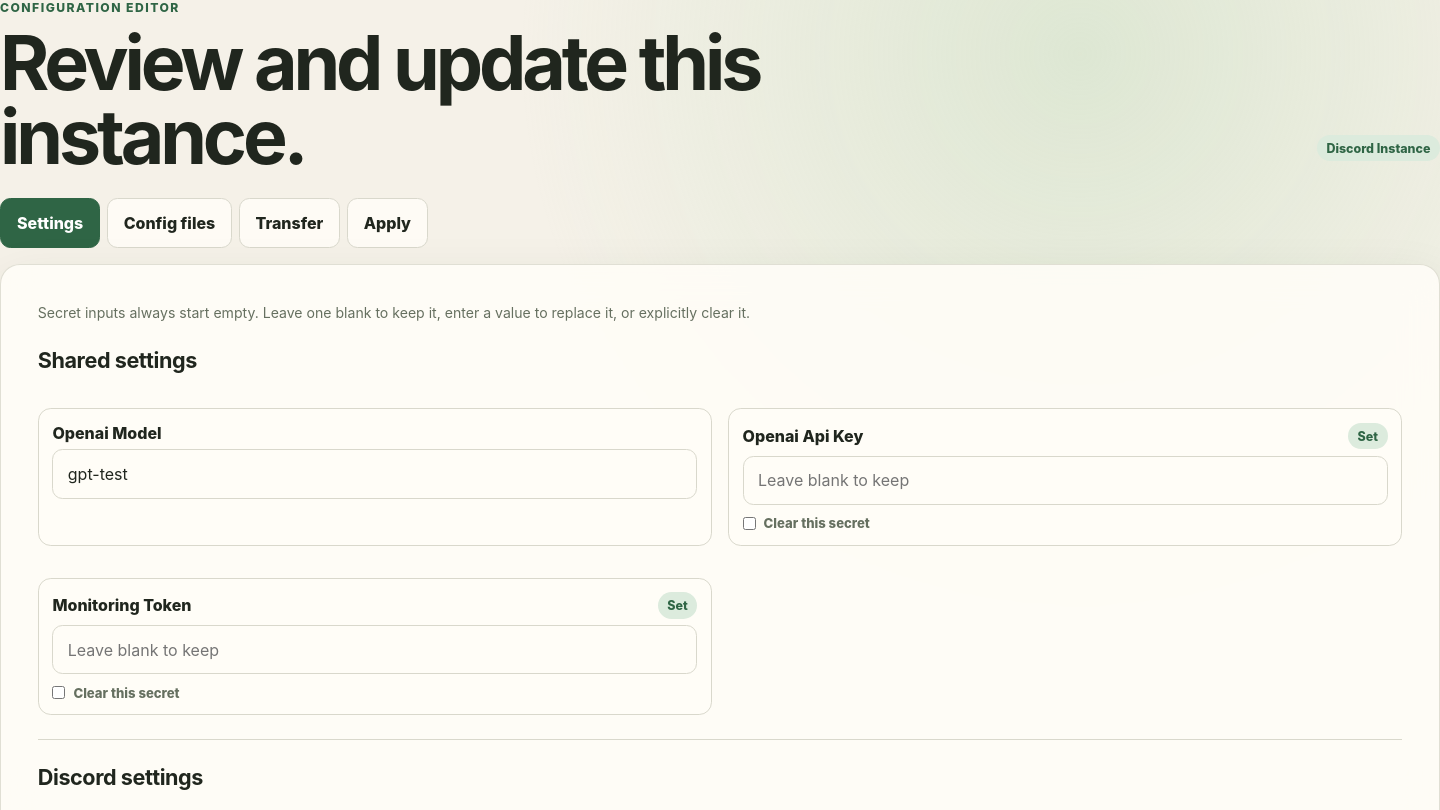
Scenario: existing configuration editor (jsdom) › maps validation issues to the matching environment field
The width and height of the screenshot is (1440, 810).
Type "missing-model" into the field labelled "Openai Model". click: x=375, y=474
box: [52,449,697,499]
(page scrolled)
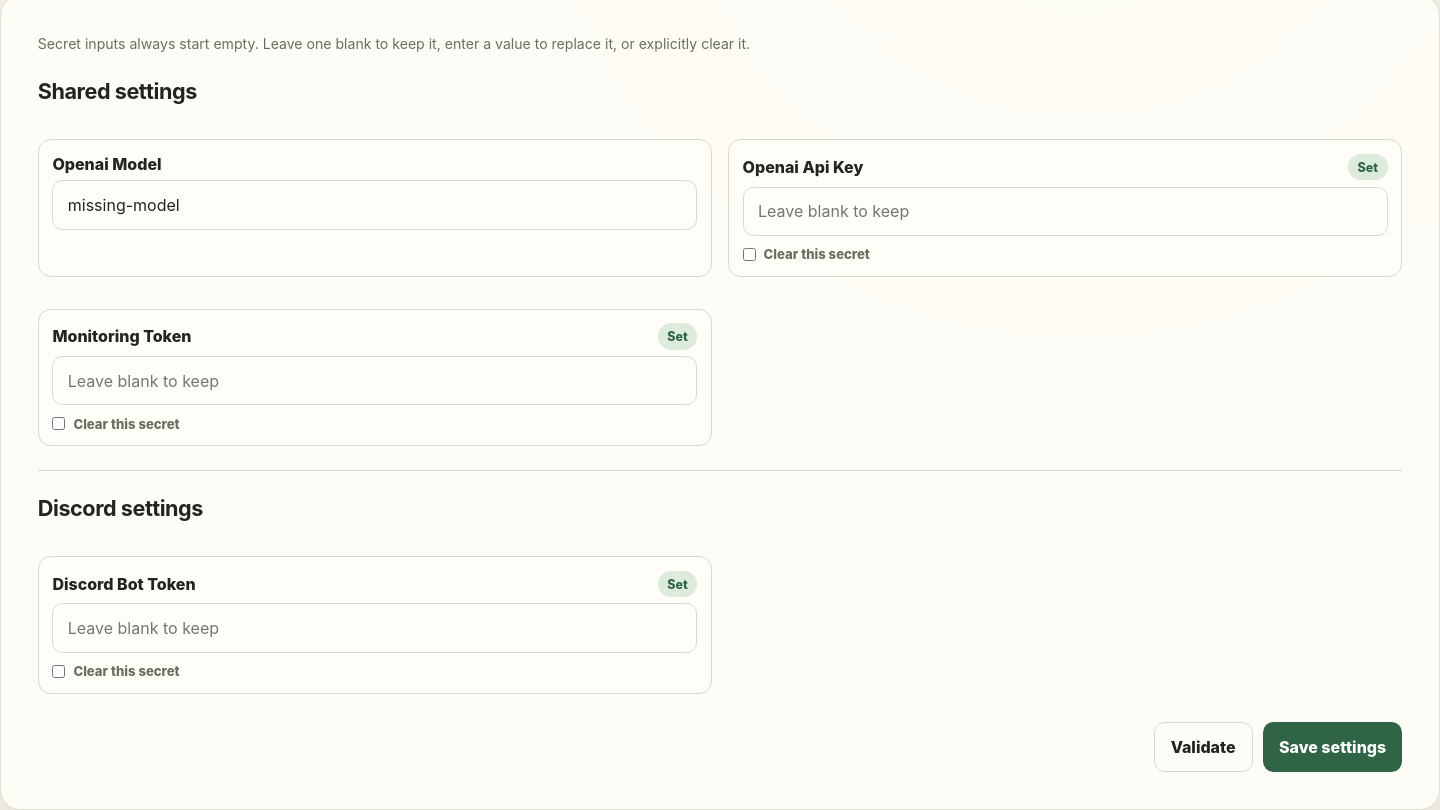
Click the button "Save settings". click: x=1333, y=747
box: [1263,722,1402,772]
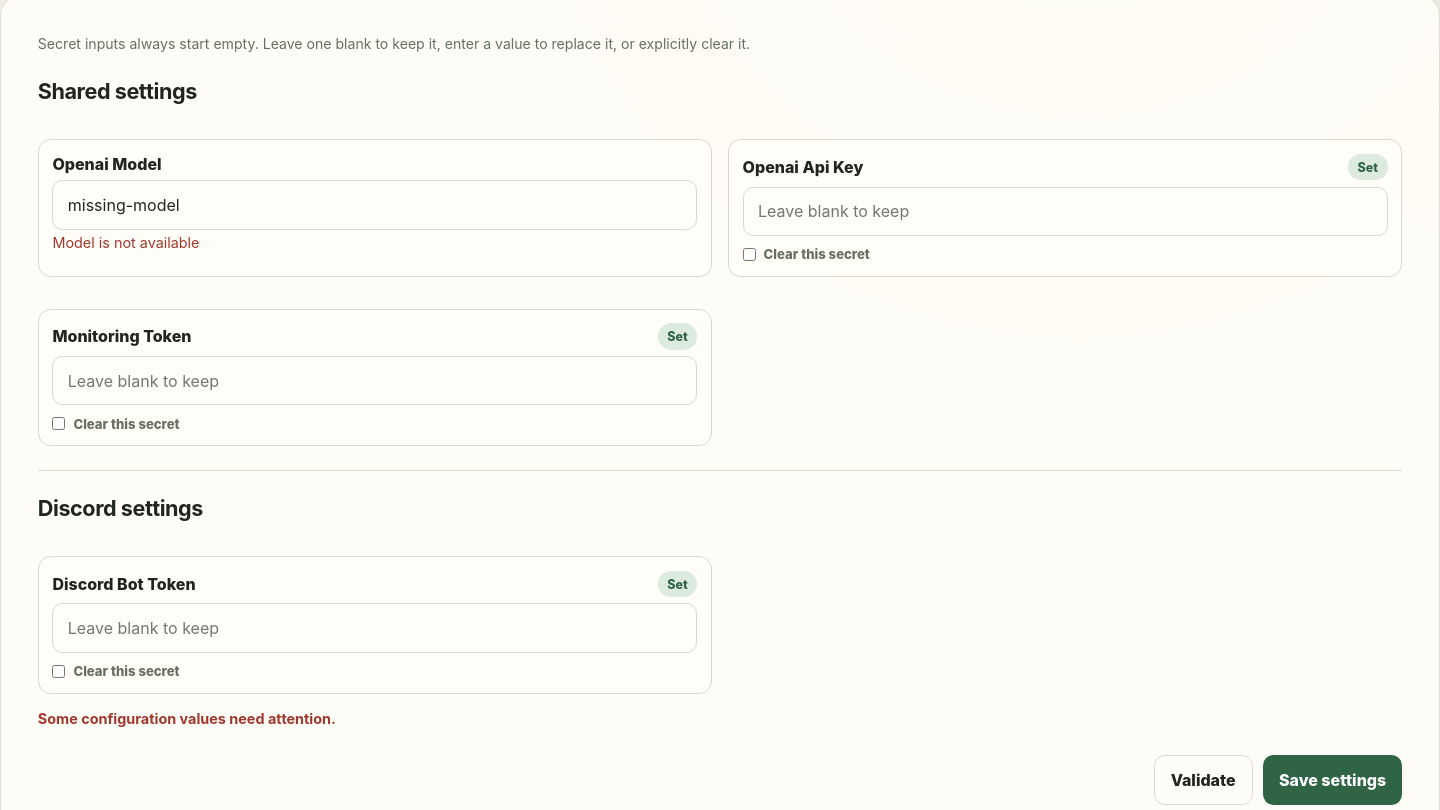
Result: the element showing "Openai Model Model is not available" is shown at [38,139,712,277]
